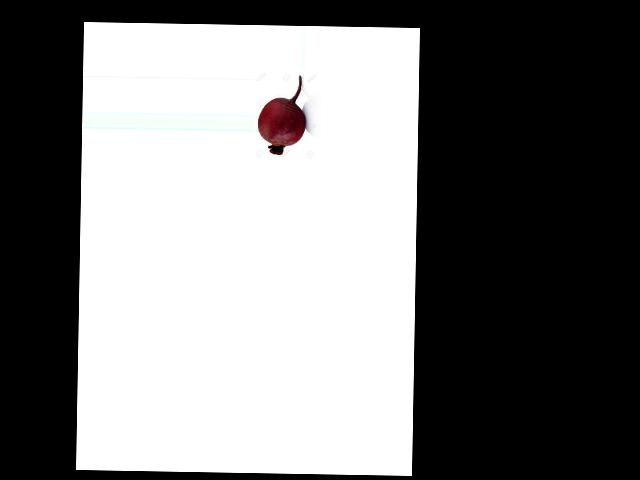beet: (257, 74, 306, 155)
